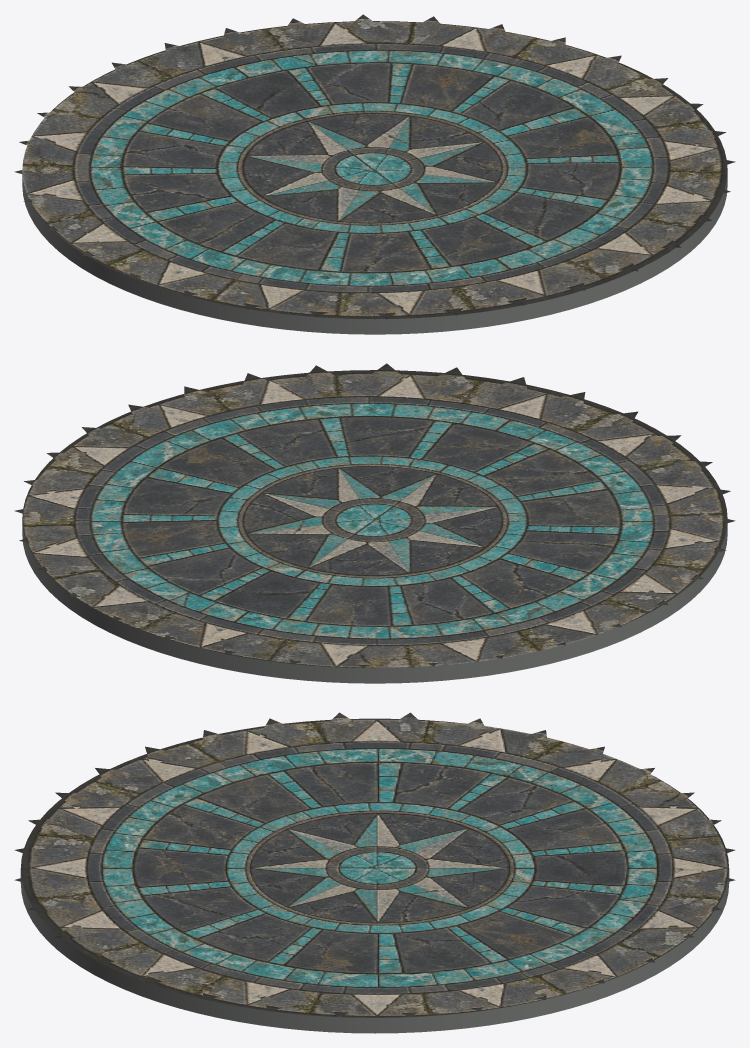
The model's file is town_teleport_platform_plaster.glb.
The picture shows the model from 3 angles, top to bottom: view 1: azimuth 30°, elevation 25°; view 2: azimuth 150°, elevation 25°; view 3: azimuth 270°, elevation 25°; orthographic projection.
Parts seen in each view (by area): view 1: town_teleport_platform_plaster; view 2: town_teleport_platform_plaster; view 3: town_teleport_platform_plaster.
Boxes of the visible parts, x1,y1,x2,y2 form: town_teleport_platform_plaster: [14, 14, 735, 334]; town_teleport_platform_plaster: [14, 363, 735, 683]; town_teleport_platform_plaster: [14, 712, 735, 1033].
Bounding box in the file's own units: 5.06 × 0.145 × 5.06.
2 materials, 1 textured.
